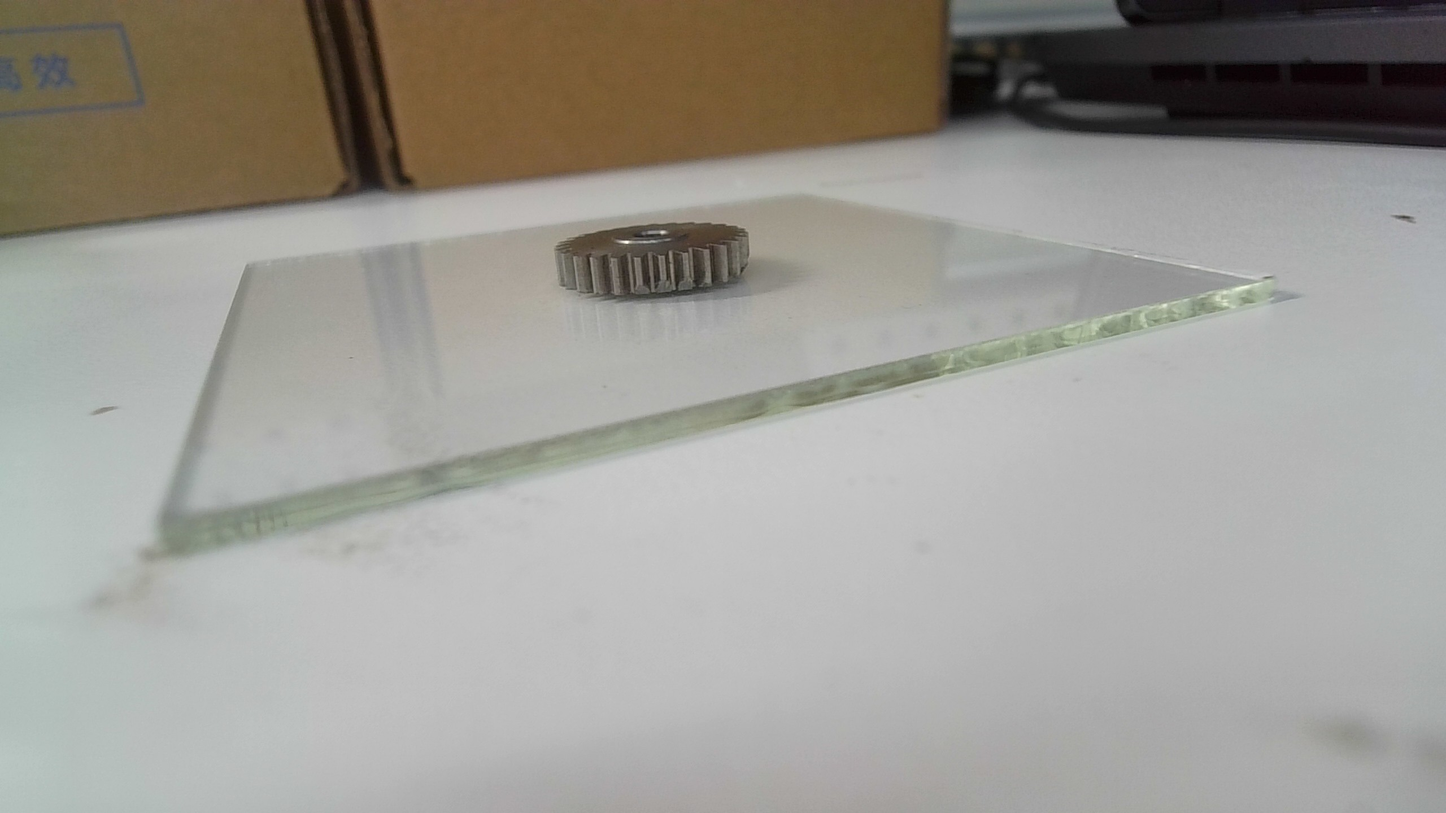gear: (555, 222, 754, 300)
